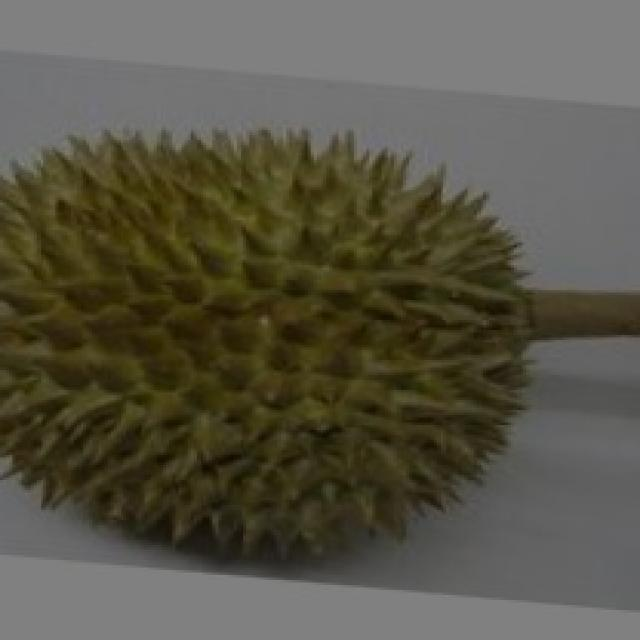fruit: (240, 152, 582, 588), (0, 215, 357, 575)
